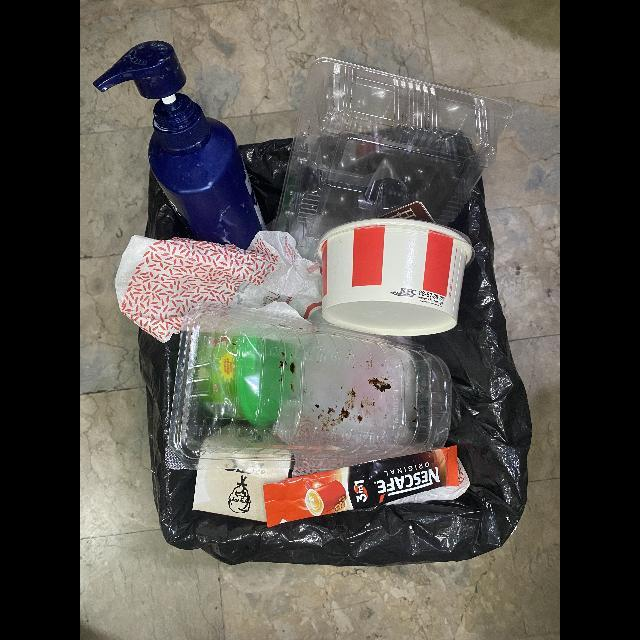paper: (114, 231, 323, 344), (317, 219, 474, 338), (193, 423, 293, 521)
plastic: (278, 58, 514, 262), (166, 303, 452, 471), (93, 40, 263, 250)
wrapper: (266, 447, 458, 529)
